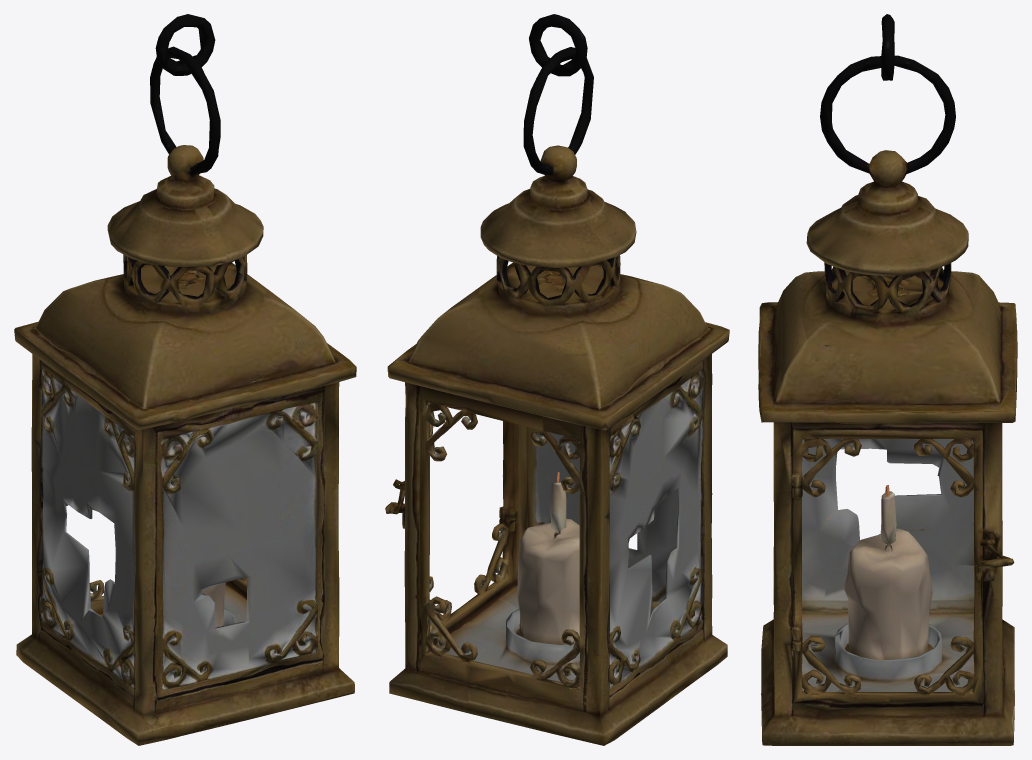
Rendered from lantern.glb.
The picture shows the model from 3 angles, left to right: view 1: azimuth 30°, elevation 25°; view 2: azimuth 150°, elevation 25°; view 3: azimuth 270°, elevation 25°; orthographic projection. The views are drawn at different scales.
Parts seen in each view (by area): view 1: tripo_node_e0bc8beb-9e1a-4e30-ba65-33419dc7b626; view 2: tripo_node_e0bc8beb-9e1a-4e30-ba65-33419dc7b626; view 3: tripo_node_e0bc8beb-9e1a-4e30-ba65-33419dc7b626.
Boxes of the visible parts, <box> form: tripo_node_e0bc8beb-9e1a-4e30-ba65-33419dc7b626: <box>14,14,356,745</box>; tripo_node_e0bc8beb-9e1a-4e30-ba65-33419dc7b626: <box>385,14,729,745</box>; tripo_node_e0bc8beb-9e1a-4e30-ba65-33419dc7b626: <box>758,14,1017,745</box>.
Bounding box in the file's own units: 0.3515 × 0.9803 × 0.341.
1 material, 1 textured.
